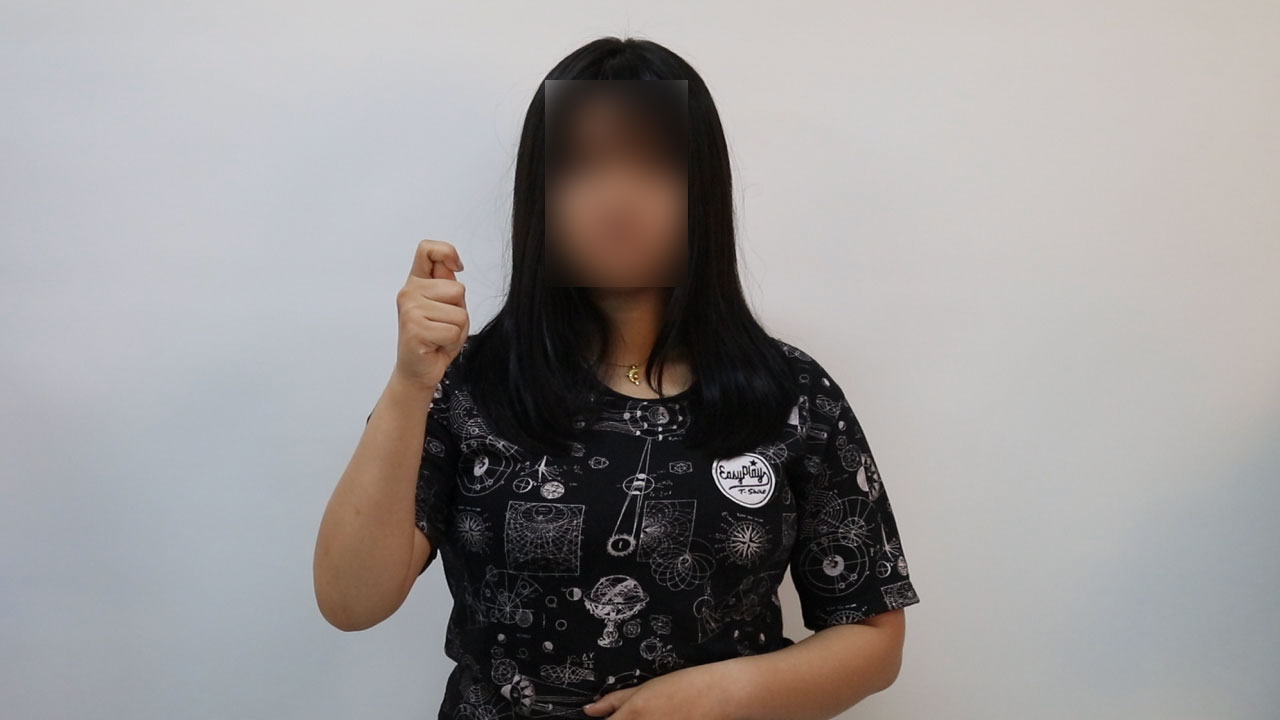or: (390, 227, 479, 395)
